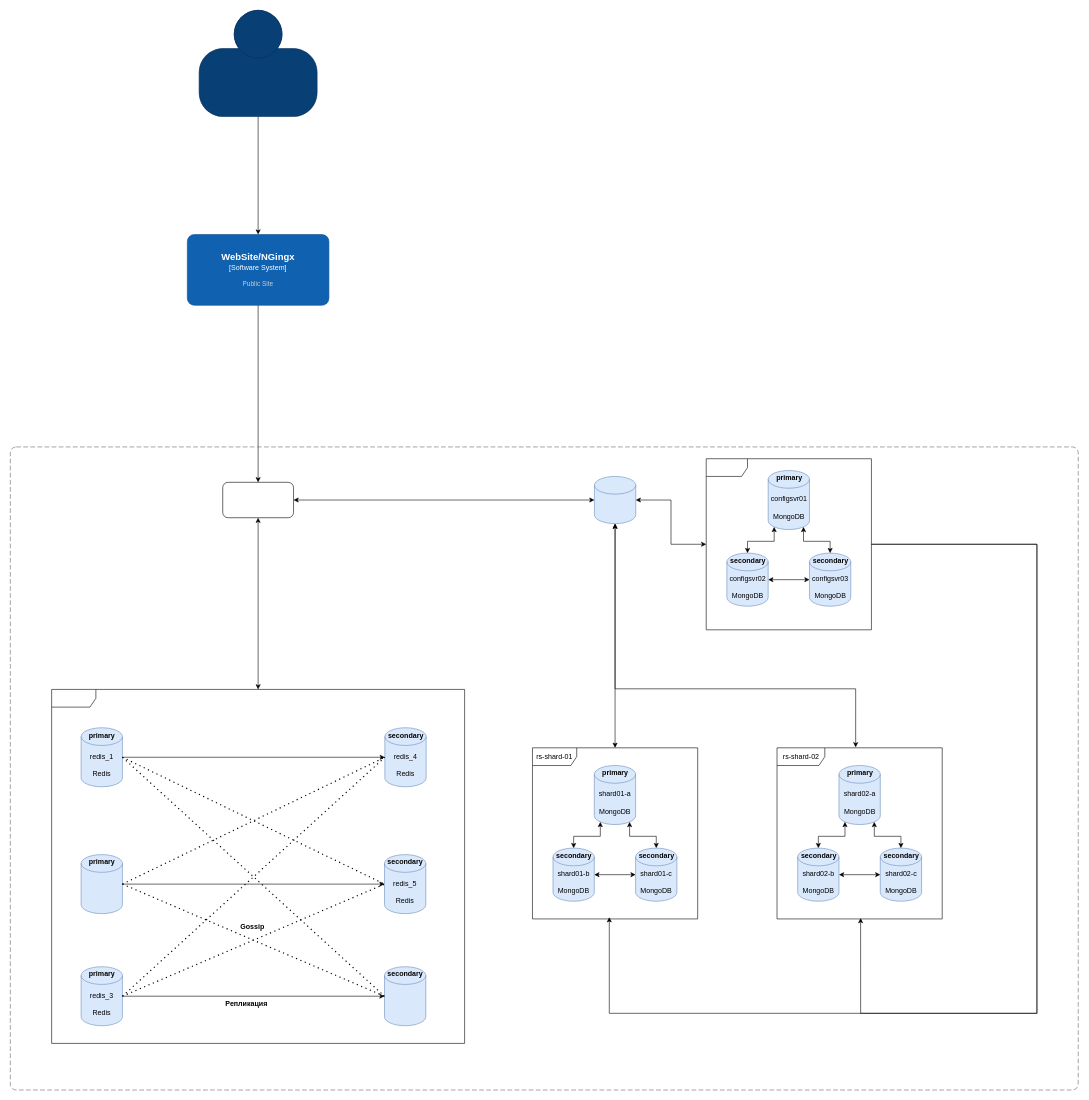
Image size: 1089x1100. Some labels were removed from this diagram. Here are the shapes that lost their labels. From the top down, the box of each, then its label:
(199, 10, 317, 117): Client [Person] Client of the site
(222, 482, 294, 518): pymongo-api
(594, 476, 636, 524): router01 MongoDB
(706, 458, 871, 630): Config Server
(10, 446, 1078, 1090): pymongo-api instance [Software System]
(81, 854, 122, 914): redis_2 Redis
(51, 689, 465, 1043): Redis cluster
(384, 966, 426, 1026): redis_6 Redis
